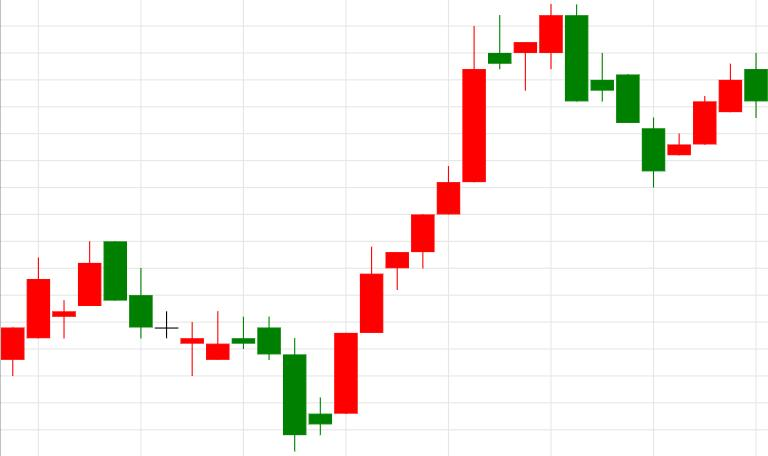bearish_engulfing_fall: (334, 3, 588, 415)
three_white_soldiers_rise: (232, 246, 409, 451)
